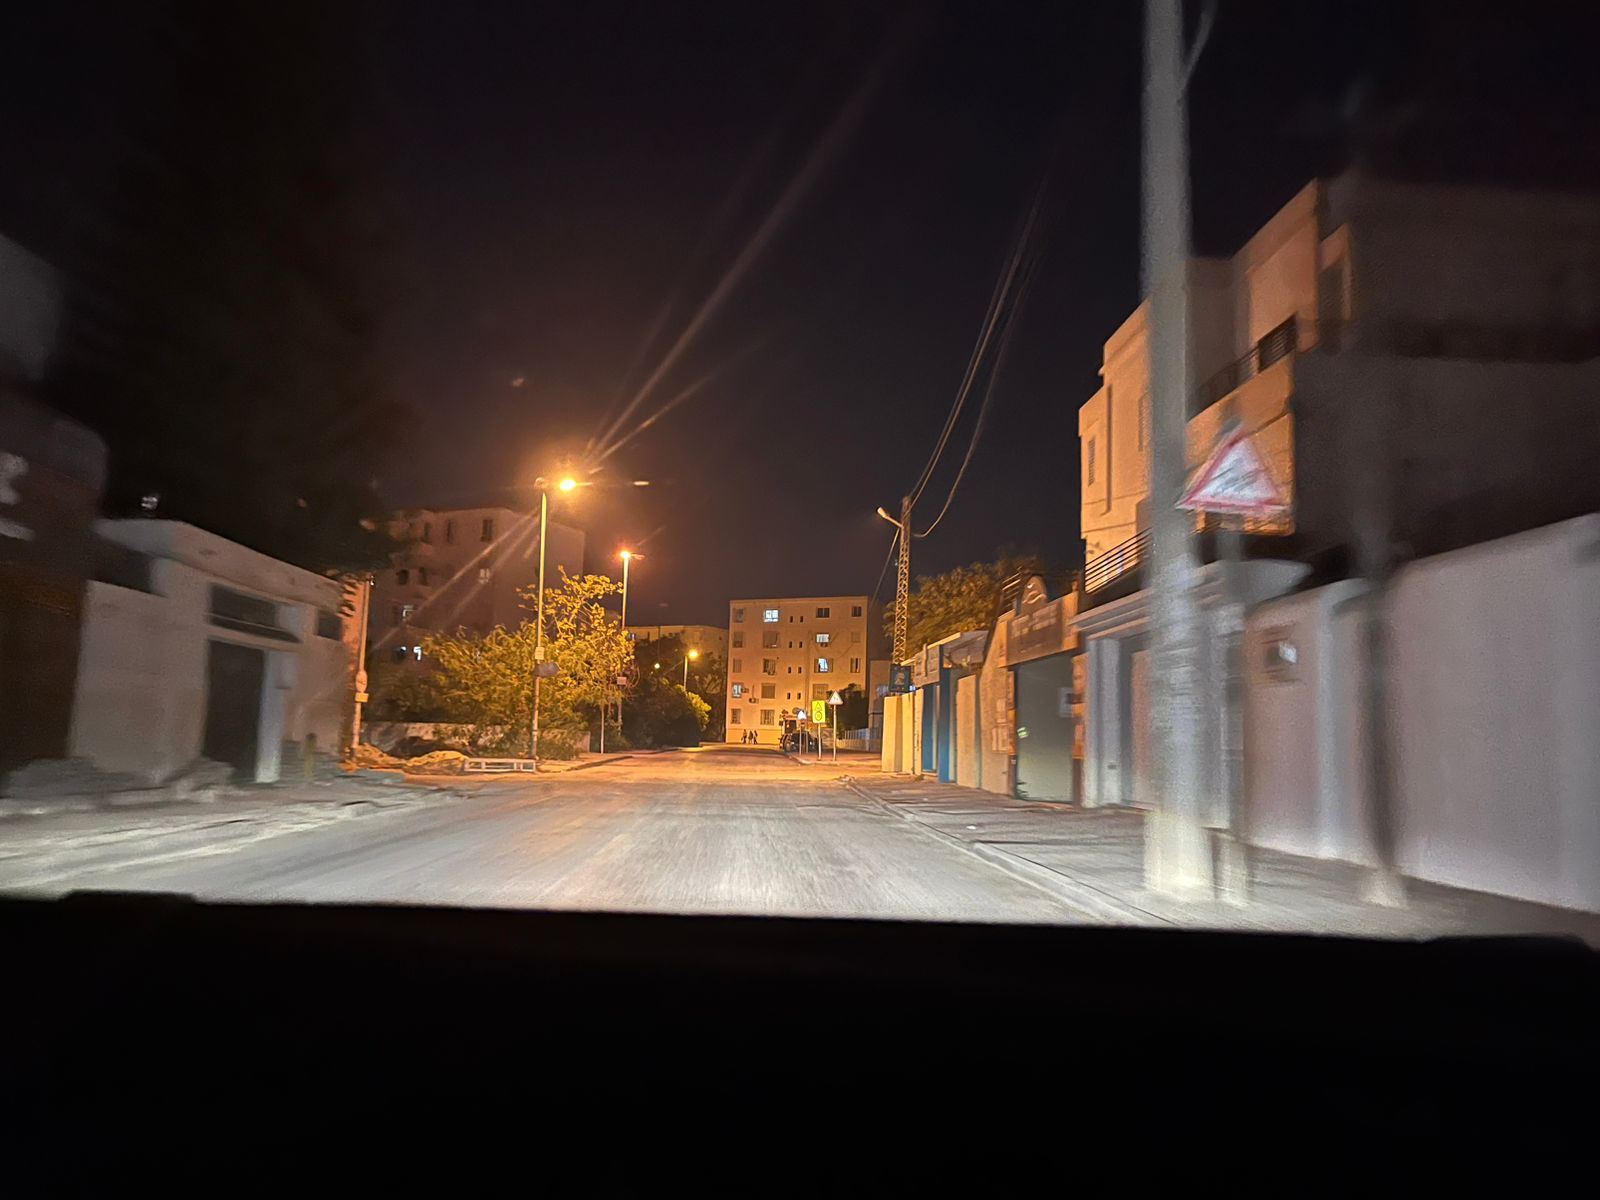SpeedLimit30: (811, 700, 826, 724)
